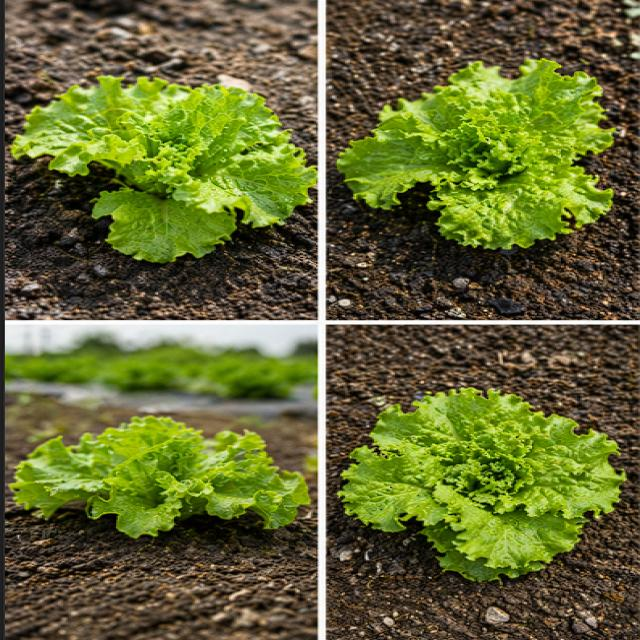inmadura: (11, 76, 314, 262), (339, 388, 624, 581), (337, 59, 613, 249), (10, 417, 308, 537)
